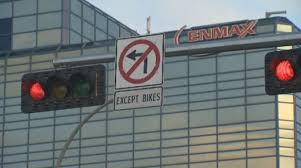No_left_turn: (118, 39, 161, 83)
